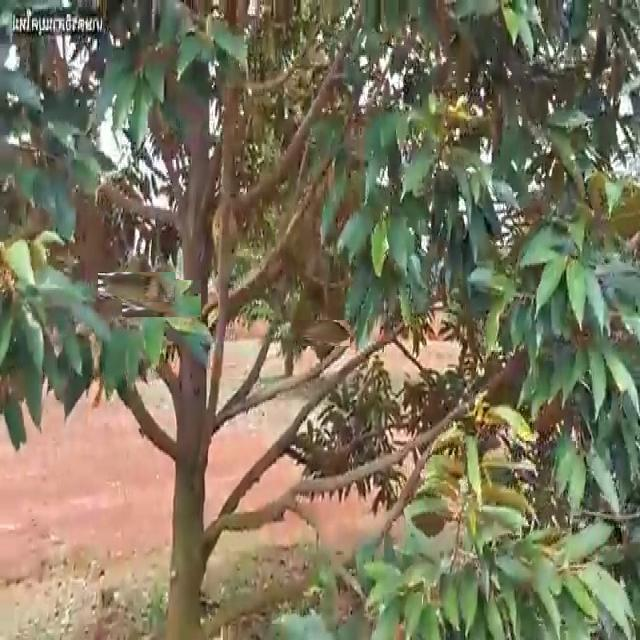durian: (132, 270, 191, 328), (110, 260, 164, 314), (304, 313, 344, 353)
